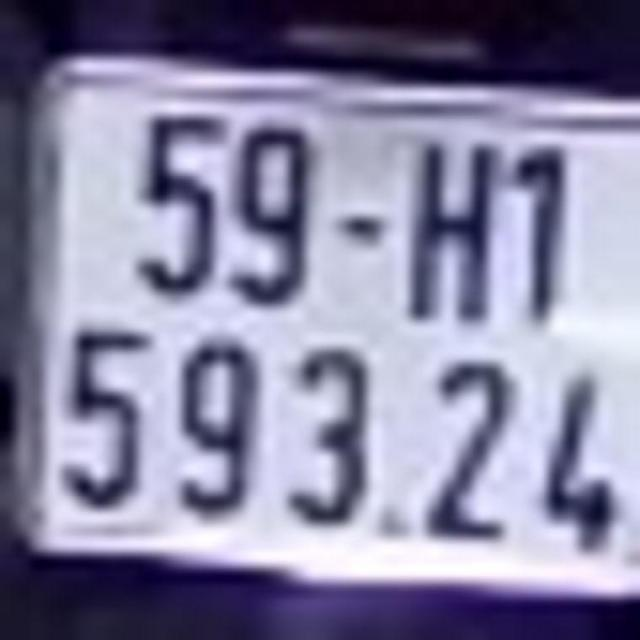1: (510, 140, 567, 332)
2: (424, 356, 508, 542)
3: (286, 344, 372, 529)
4: (540, 367, 624, 552)
5: (62, 323, 148, 511), (139, 113, 223, 297)
9: (230, 122, 309, 309), (175, 332, 253, 516)
H: (404, 136, 495, 337)
